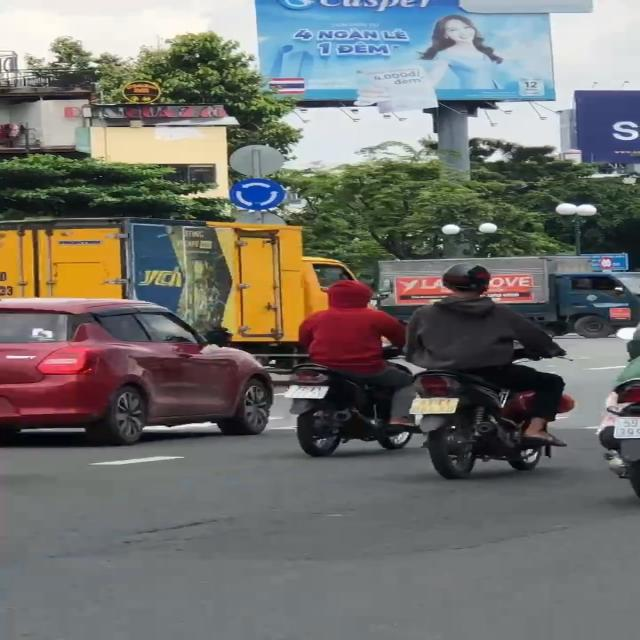Bien bao noi giao nhau chay theo vong xuyen: (229, 177, 289, 210)
